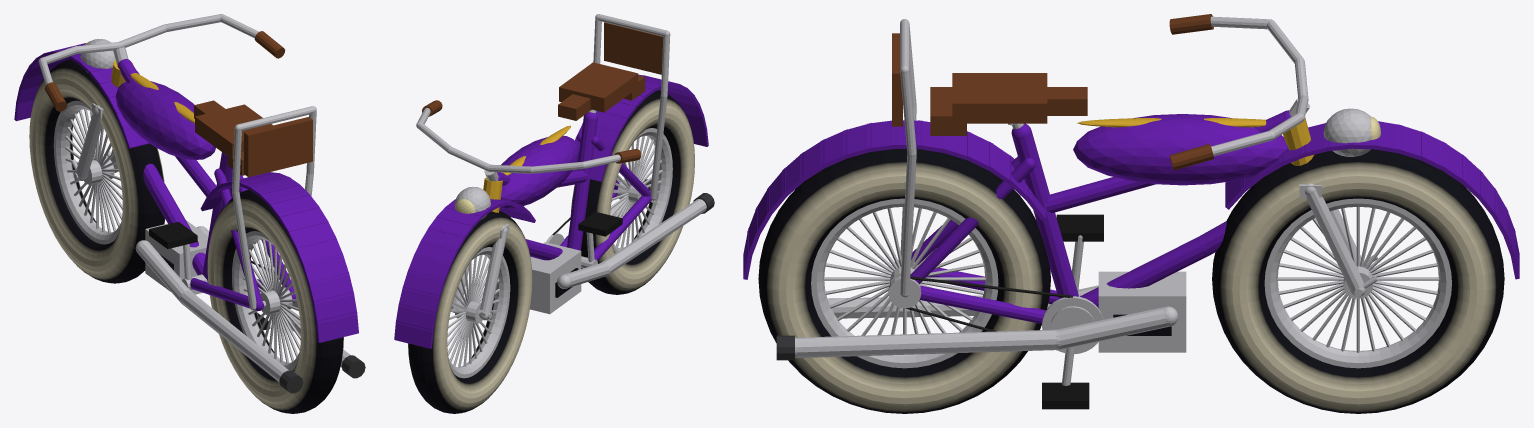
File: bike-4.glb
The picture shows the model from 3 angles, left to right: view 1: azimuth 30°, elevation 25°; view 2: azimuth 150°, elevation 25°; view 3: azimuth 270°, elevation 25°; orthographic projection. The views are drawn at different scales.
Parts seen in each view (by area): view 1: wheel_front, wheel_back, fenders, sissybar, frame, tank, exhaust, handlebars, seat, drivetrain, engine, fork (+1 smaller); view 2: wheel_front, wheel_back, fenders, frame, sissybar, tank, seat, exhaust, handlebars, engine, drivetrain, fork (+1 smaller); view 3: wheel_front, wheel_back, fenders, frame, tank, exhaust, seat, drivetrain, engine, handlebars, sissybar, fork (+1 smaller).
Boxes of the visible parts, x1,y1,x2,y2 form: wheel_front: (29, 59, 164, 283); wheel_back: (207, 189, 343, 413); fenders: (14, 43, 358, 342); sissybar: (232, 106, 316, 310); frame: (111, 59, 296, 310); tank: (115, 73, 215, 159); exhaust: (135, 226, 365, 393); handlebars: (38, 14, 285, 111); seat: (194, 100, 272, 175); drivetrain: (149, 222, 298, 330); engine: (145, 220, 208, 294); fork: (75, 103, 118, 180); wheel_front: (408, 211, 532, 413); wheel_back: (570, 90, 694, 294); fenders: (394, 74, 708, 348); frame: (483, 112, 651, 260); sissybar: (593, 14, 670, 200); tank: (499, 125, 579, 208); seat: (558, 62, 645, 120); exhaust: (557, 179, 714, 288); handlebars: (416, 100, 641, 181); engine: (530, 242, 581, 314); drivetrain: (546, 177, 622, 268); fork: (451, 224, 509, 320); wheel_front: (1212, 149, 1504, 413); wheel_back: (758, 149, 1050, 413); fenders: (743, 120, 1519, 288); frame: (910, 110, 1313, 323); tank: (1073, 114, 1288, 185); exhaust: (776, 285, 1178, 360); seat: (930, 73, 1087, 135); drivetrain: (888, 214, 1103, 409); engine: (1098, 271, 1186, 352); handlebars: (1169, 14, 1310, 170); sissybar: (892, 19, 916, 297); fork: (1299, 183, 1366, 296).
Bounding box in the file's own units: 0.859 × 1.04 × 1.98.
